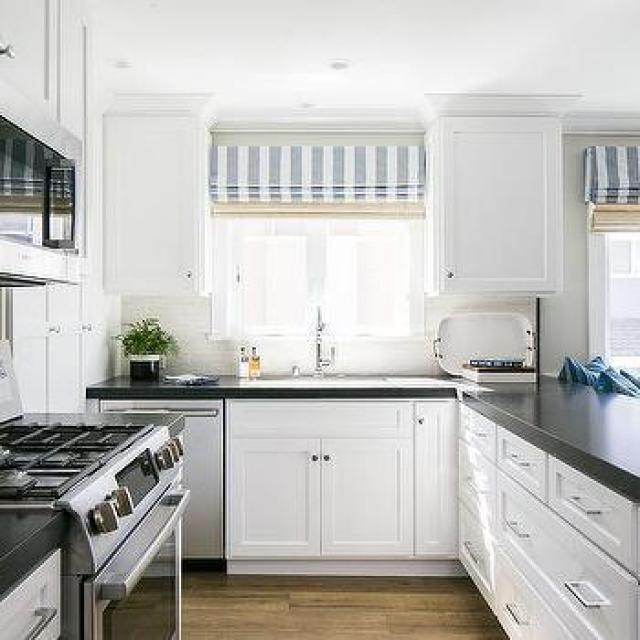dishwasher: (106, 390, 236, 589)
